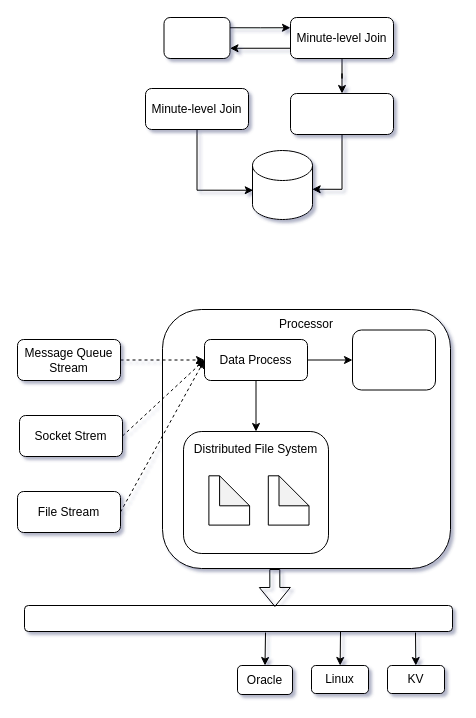
Image size: 476x718. Some labels were removed from this diagram. Each missing label, with the centre of its shape:
"Distribution System" goes at point (394, 359).
"hbase" goes at point (196, 37).
"Hour-level Merge" goes at point (342, 113).
"Log Storage" goes at point (282, 185).
"Scheduler System" goes at point (238, 618).
